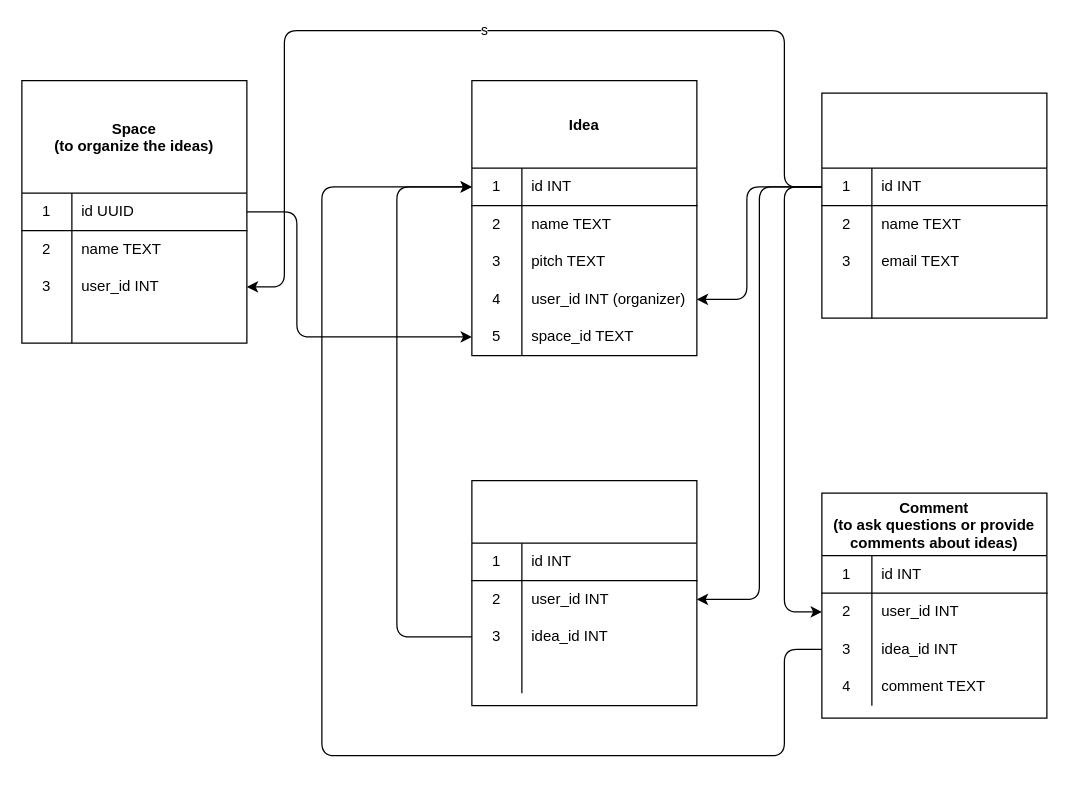
The diagram is 1069 pixels wide and 788 high, and some of its shapes have lost their labels. Here are the shapes that lost their labels. From the top down, the box of each, then its label:
(821, 92, 1047, 318): User
(471, 479, 697, 706): Interest (to signal a user's interest in an idea)
